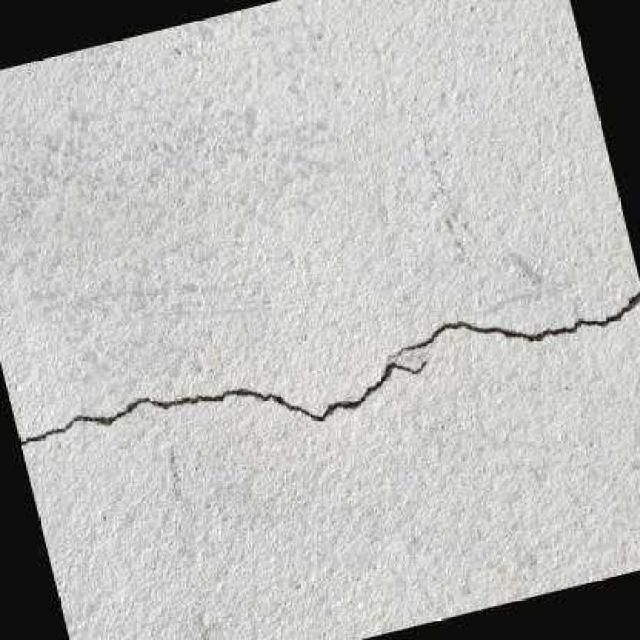D00: (21, 361, 427, 448), (393, 291, 640, 356)
